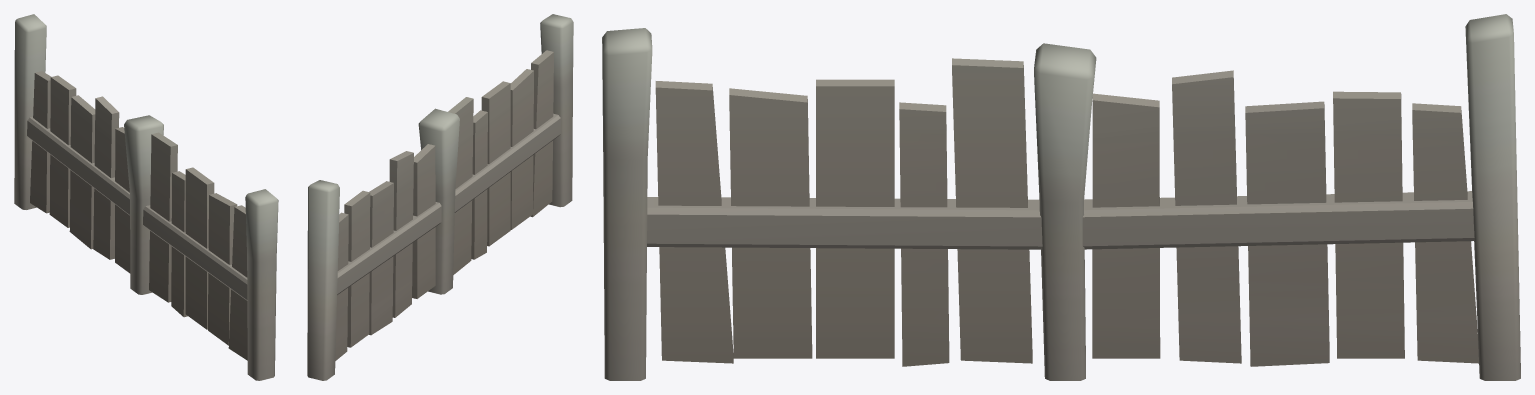
The model's file is WallFence_1_2_B.fbx.
The picture shows the model from 3 angles, left to right: view 1: azimuth 30°, elevation 25°; view 2: azimuth 150°, elevation 25°; view 3: azimuth 270°, elevation 25°; orthographic projection. The views are drawn at different scales.
Parts seen in each view (by area): view 1: WallFence_1_2_B; view 2: WallFence_1_2_B; view 3: WallFence_1_2_B.
Boxes of the visible parts, x1,y1,x2,y2 form: WallFence_1_2_B: (14,14,278,380); WallFence_1_2_B: (307,14,573,380); WallFence_1_2_B: (602,14,1520,380).
Bounding box in the file's own units: 14.3 × 87.88 × 209.
